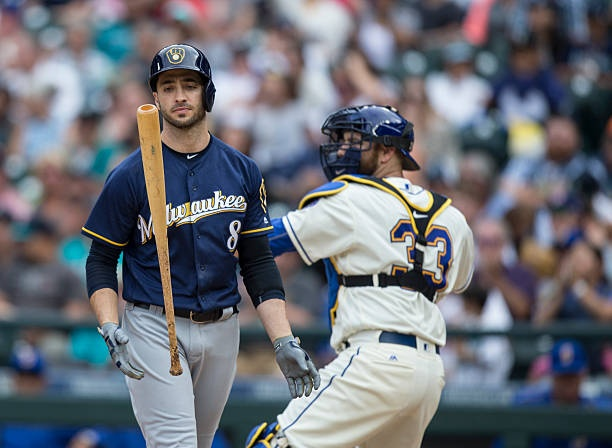bita: (136, 102, 183, 375)
